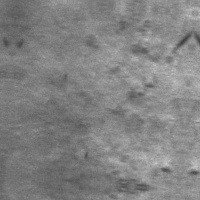rolled-in_scale: (125, 14, 178, 63), (110, 154, 175, 190), (111, 75, 159, 123)
